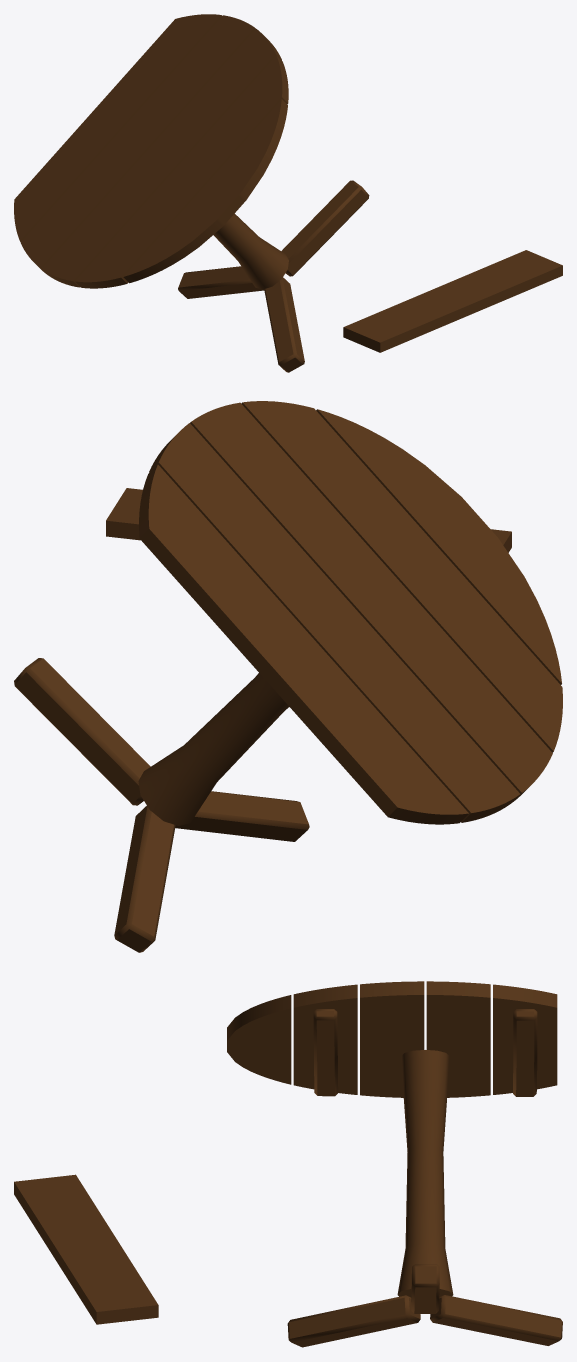
The model's file is tisch_rund_kaputt.glb.
The picture shows the model from 3 angles, top to bottom: view 1: azimuth 30°, elevation 25°; view 2: azimuth 150°, elevation 25°; view 3: azimuth 270°, elevation 25°; orthographic projection. The views are drawn at different scales.
Parts seen in each view (by area): view 1: tisch_rund_kaputt; view 2: tisch_rund_kaputt; view 3: tisch_rund_kaputt.
Part boxes in pixels (<box>): tisch_rund_kaputt: <box>14,14,562,372</box>; tisch_rund_kaputt: <box>14,401,562,952</box>; tisch_rund_kaputt: <box>14,981,562,1347</box>.
Size of the model in its own units: 1.39 by 1.04 by 1.38.
